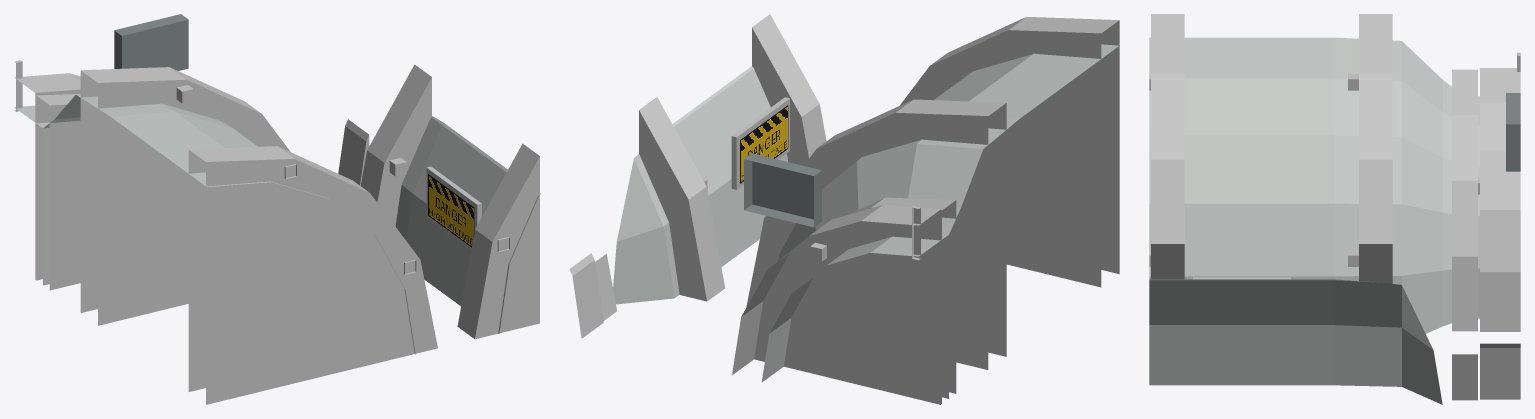
File: cell_81.obj
3 views of the same model, side by side, from view 1: azimuth 30°, elevation 25°; view 2: azimuth 150°, elevation 25°; view 3: azimuth 270°, elevation 25° (orthographic). The views are drawn at different scales.
Size of the model in its own units: 1 by 0.695 by 1.
